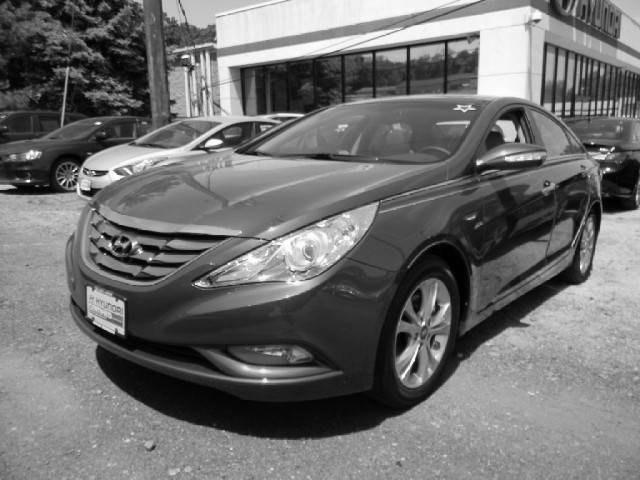car: (48, 79, 625, 433)
